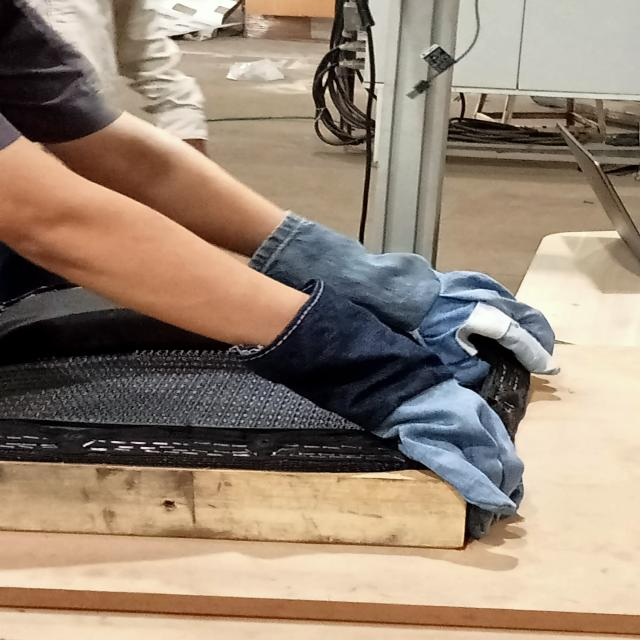Gloves-Detection: (298, 322, 526, 509), (271, 220, 546, 348)
